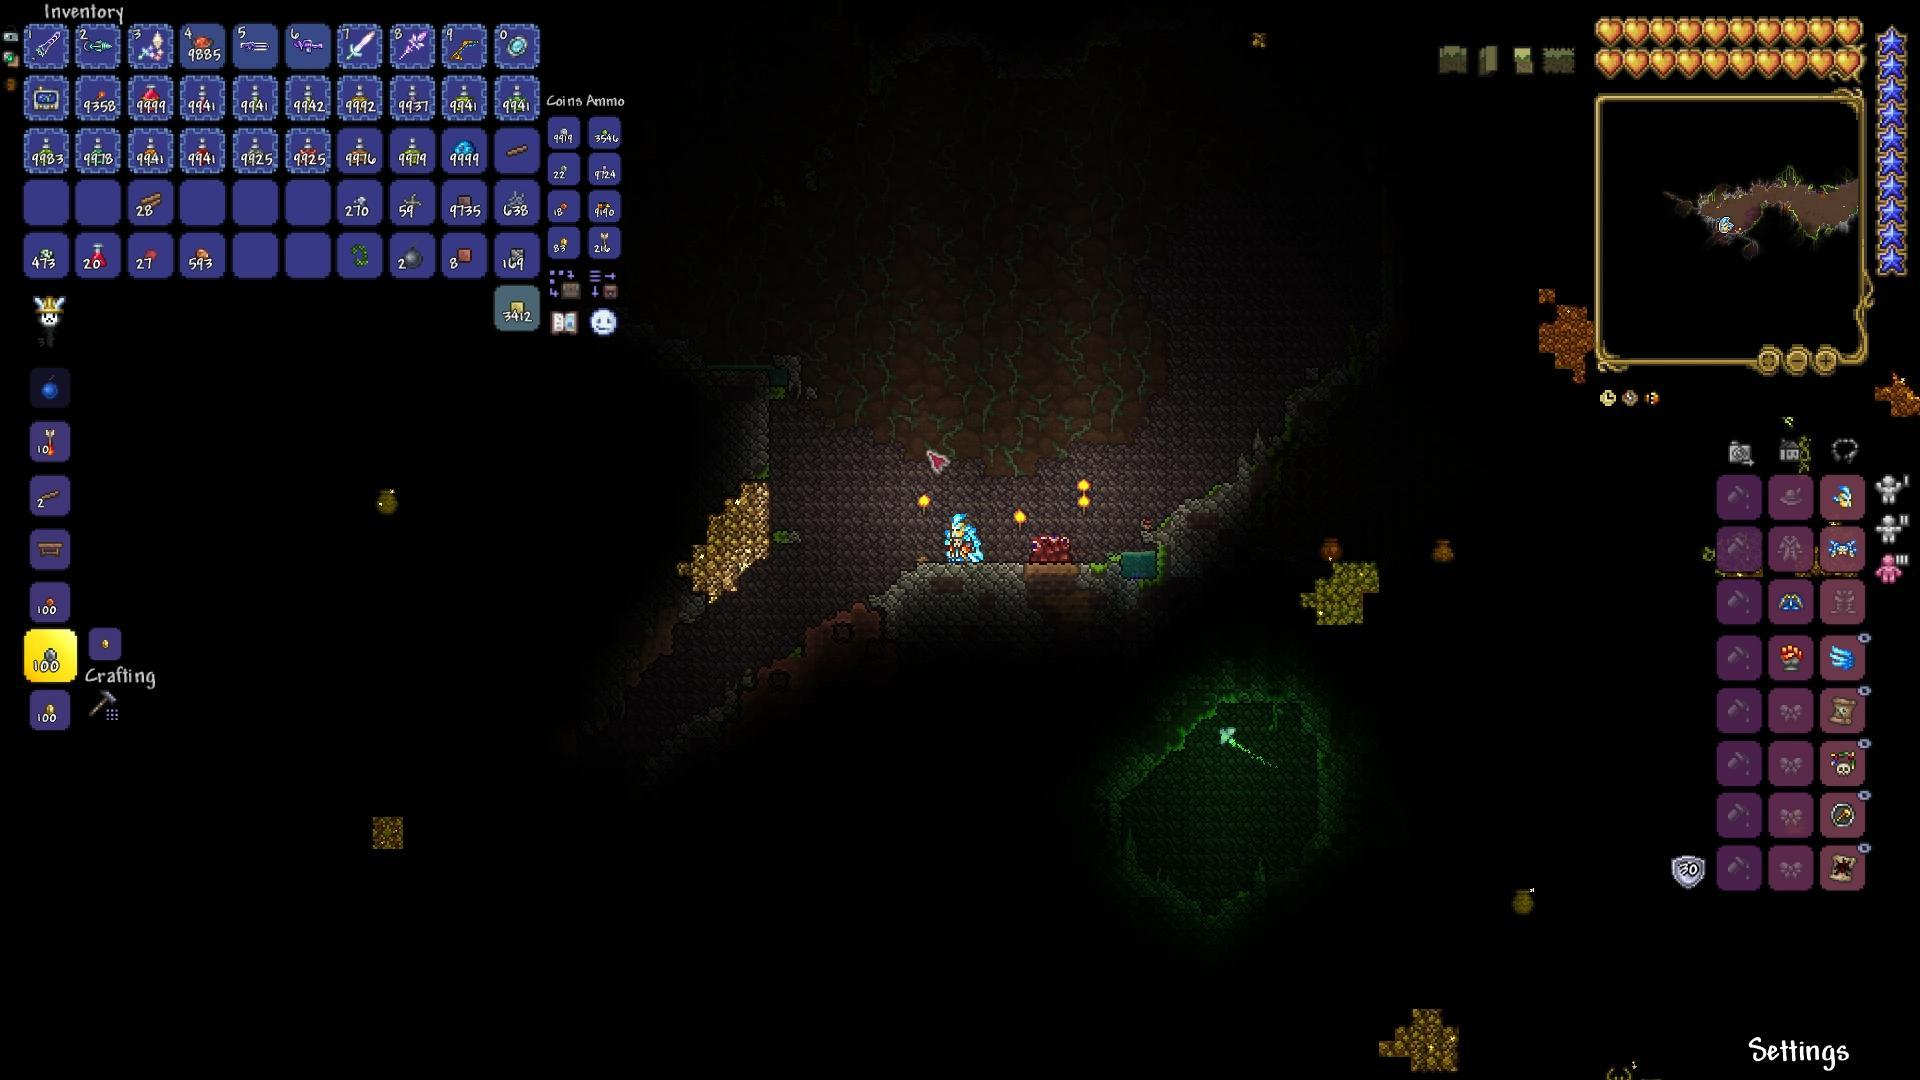altar: (1023, 530, 1077, 570)
pot: (372, 479, 402, 517), (1317, 531, 1346, 570), (1427, 535, 1458, 564), (1513, 884, 1539, 915)
